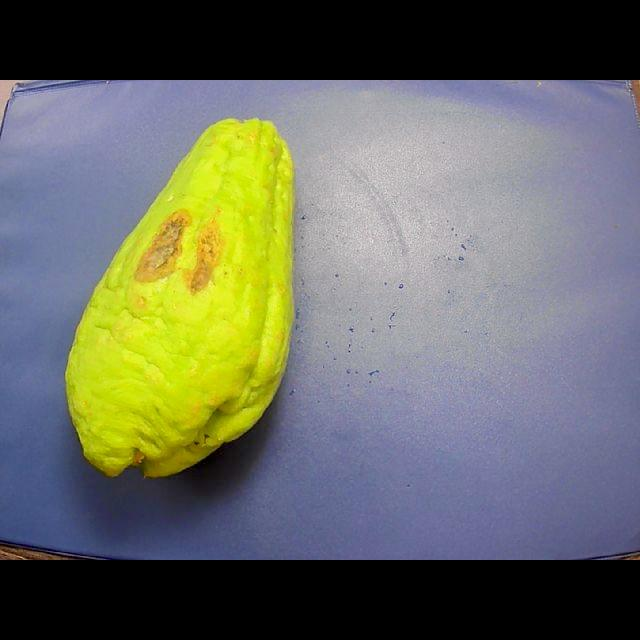chayote: (66, 118, 295, 476)
